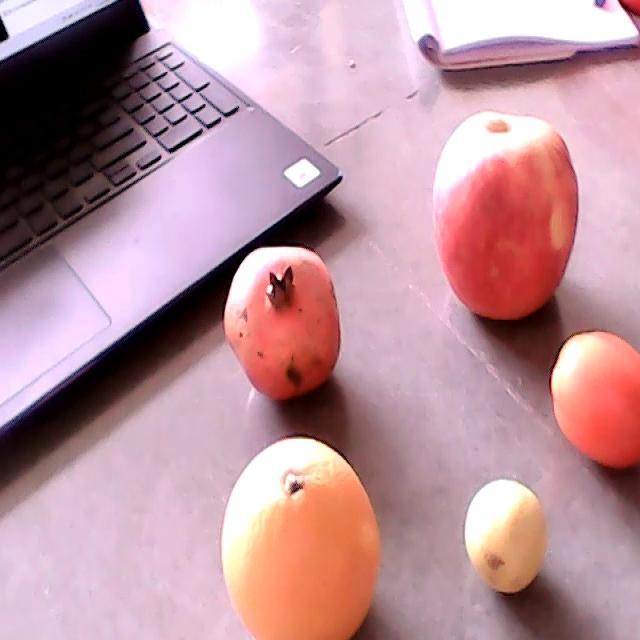apple: (432, 111, 578, 322)
lemon: (465, 478, 547, 593)
orange: (222, 436, 380, 639)
pomegranate: (224, 248, 342, 400)
tomato: (551, 330, 639, 469)
